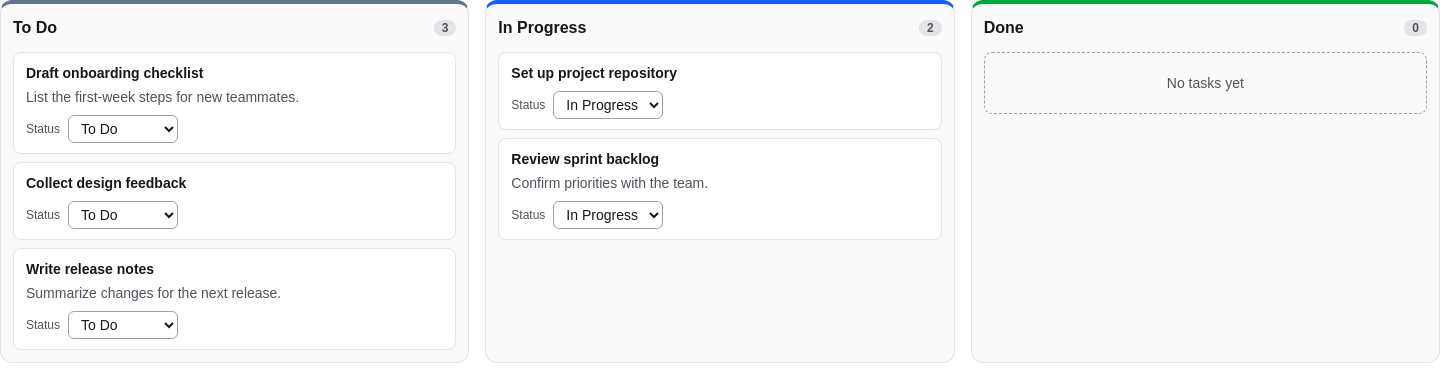
Test: Board › shows "No tasks yet" when the last card leaves a column
This screenshot has width=1440, height=380.
Select "Done" in the dropdown labelled "Status" below "Set up project repository" at (608, 105), box [553, 91, 663, 119]
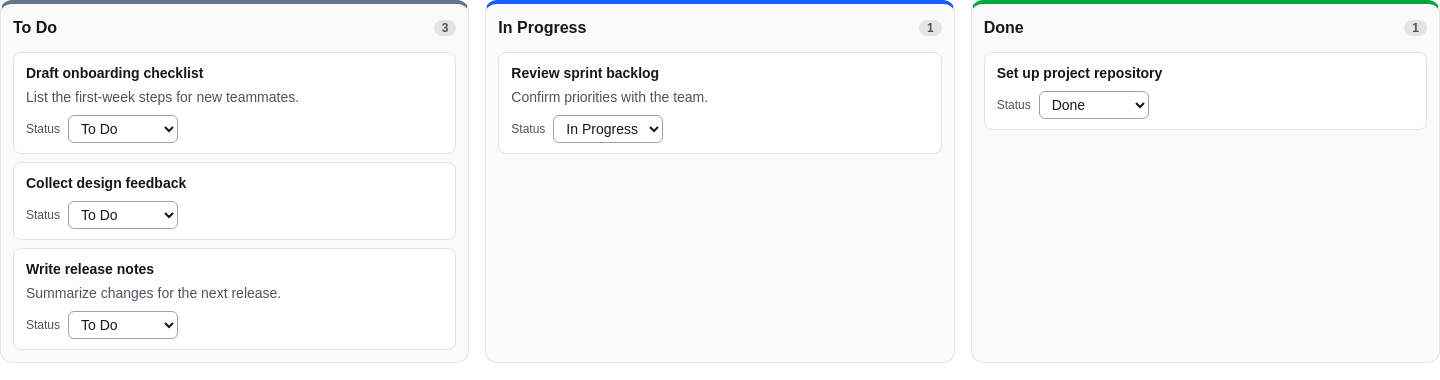
Select "Done" in the dropdown labelled "Status" below "Review sprint backlog" at (608, 129), box [553, 115, 663, 143]
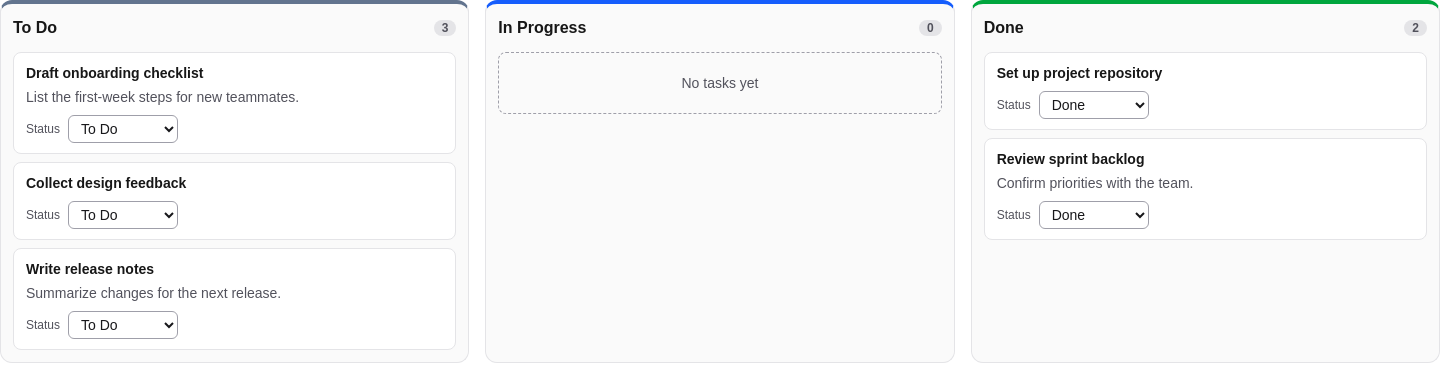
Now the text "No tasks yet" is shown, box [498, 52, 942, 114]
